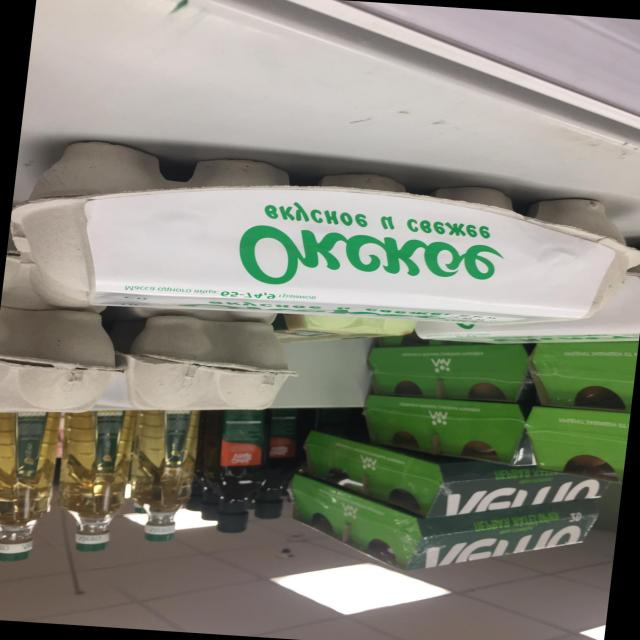organic waste: (3, 135, 640, 340), (125, 312, 307, 425), (0, 305, 134, 420), (52, 405, 140, 568), (127, 404, 204, 557), (0, 401, 66, 576), (193, 406, 270, 543), (243, 406, 306, 530)
